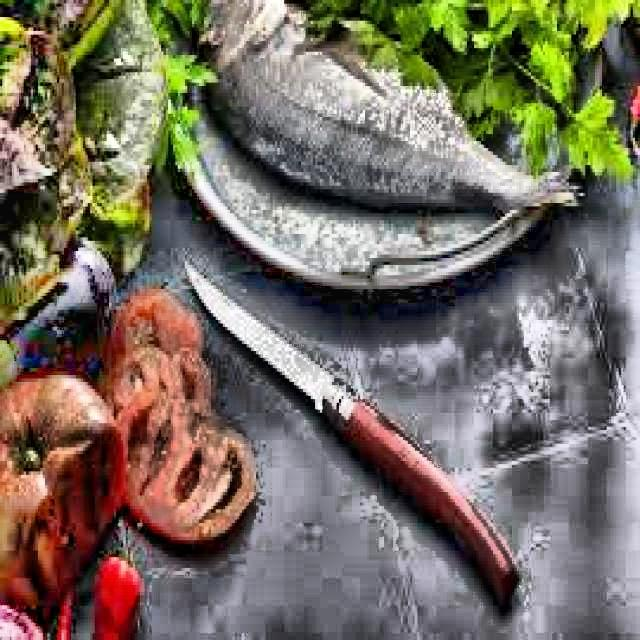knife: (185, 250, 532, 616)
